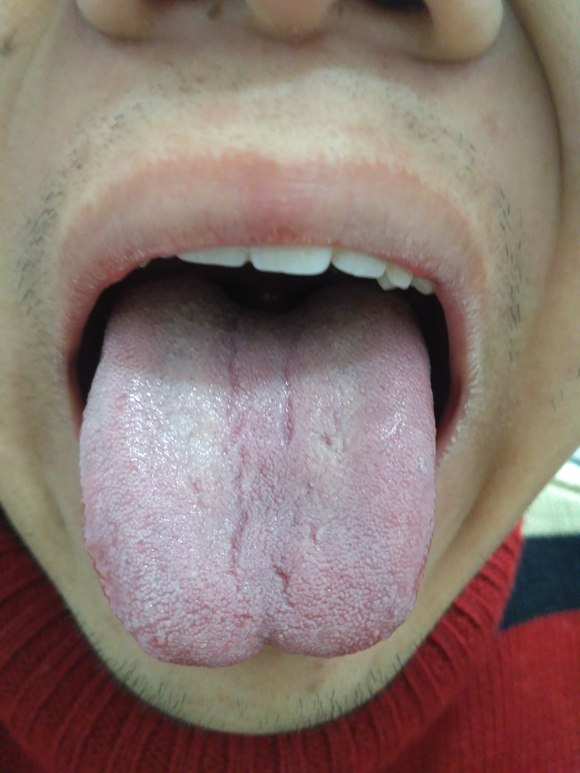baitaishe: (80, 271, 436, 668)
liewenshe: (222, 328, 321, 604)
shenquao: (177, 272, 347, 332)
xinfeiao: (186, 621, 335, 669)
